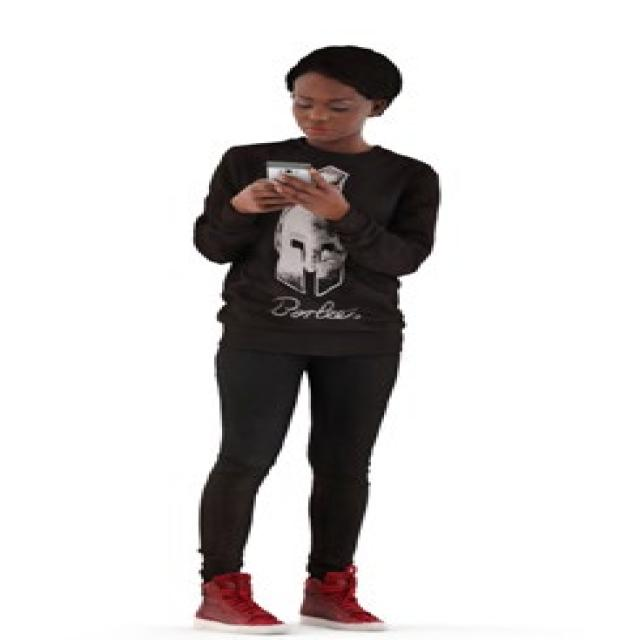standing: (178, 38, 446, 640)
